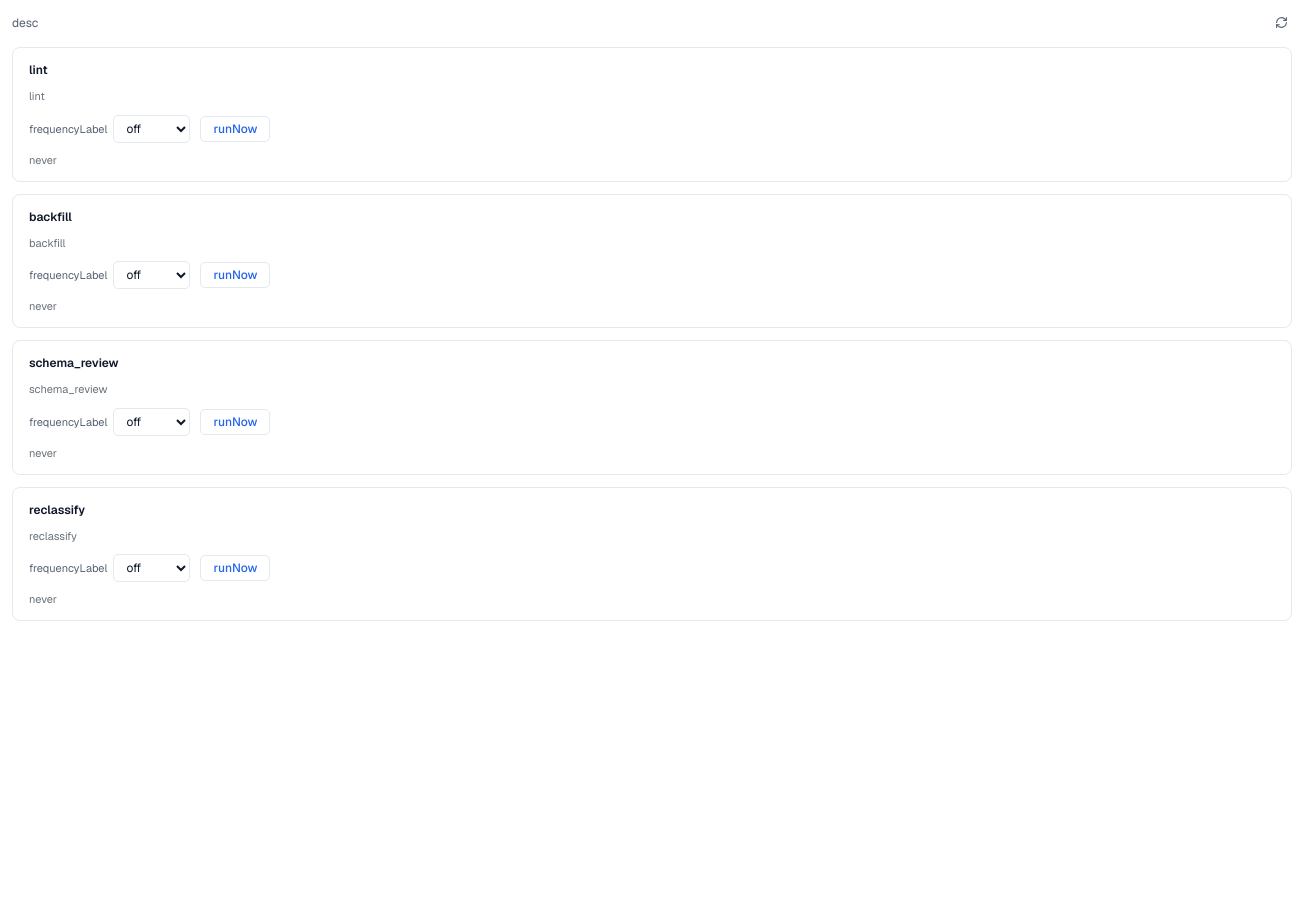
Test: OpsScheduleCard › 400-dormant response › shows vocabulary hint when run-now returns 400
Click the button with test id "ops-run-now-backfill" at (235, 275), box x1=200 y1=262 x2=270 y2=288
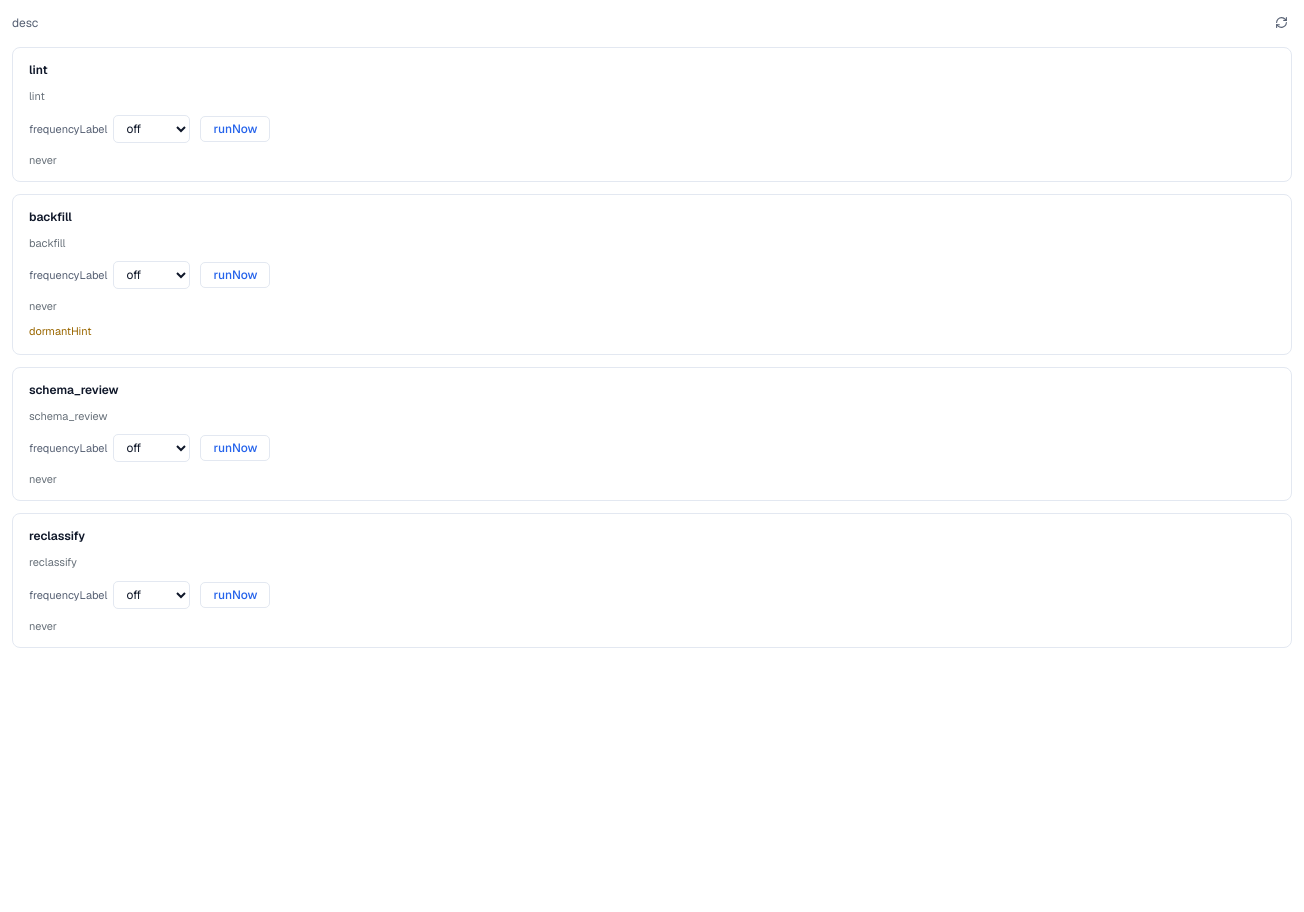
Check: the message "dormantHint" is shown, box x1=29 y1=324 x2=92 y2=338
